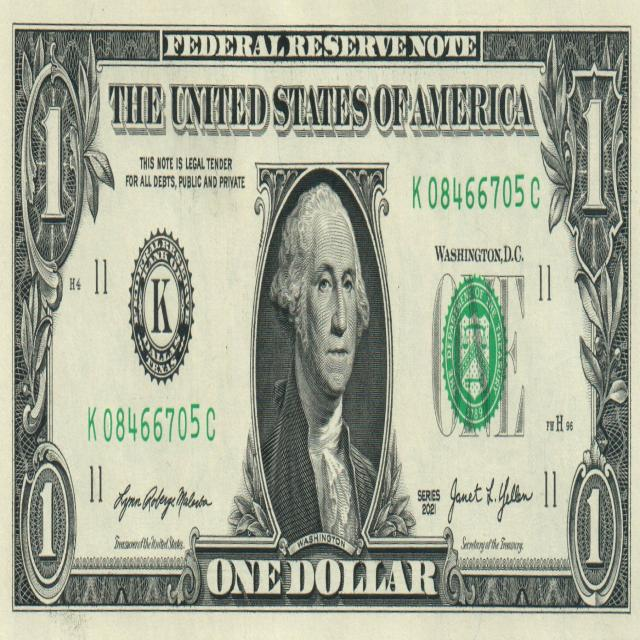SerialNumber: (88, 404, 214, 442), (413, 174, 539, 210)
